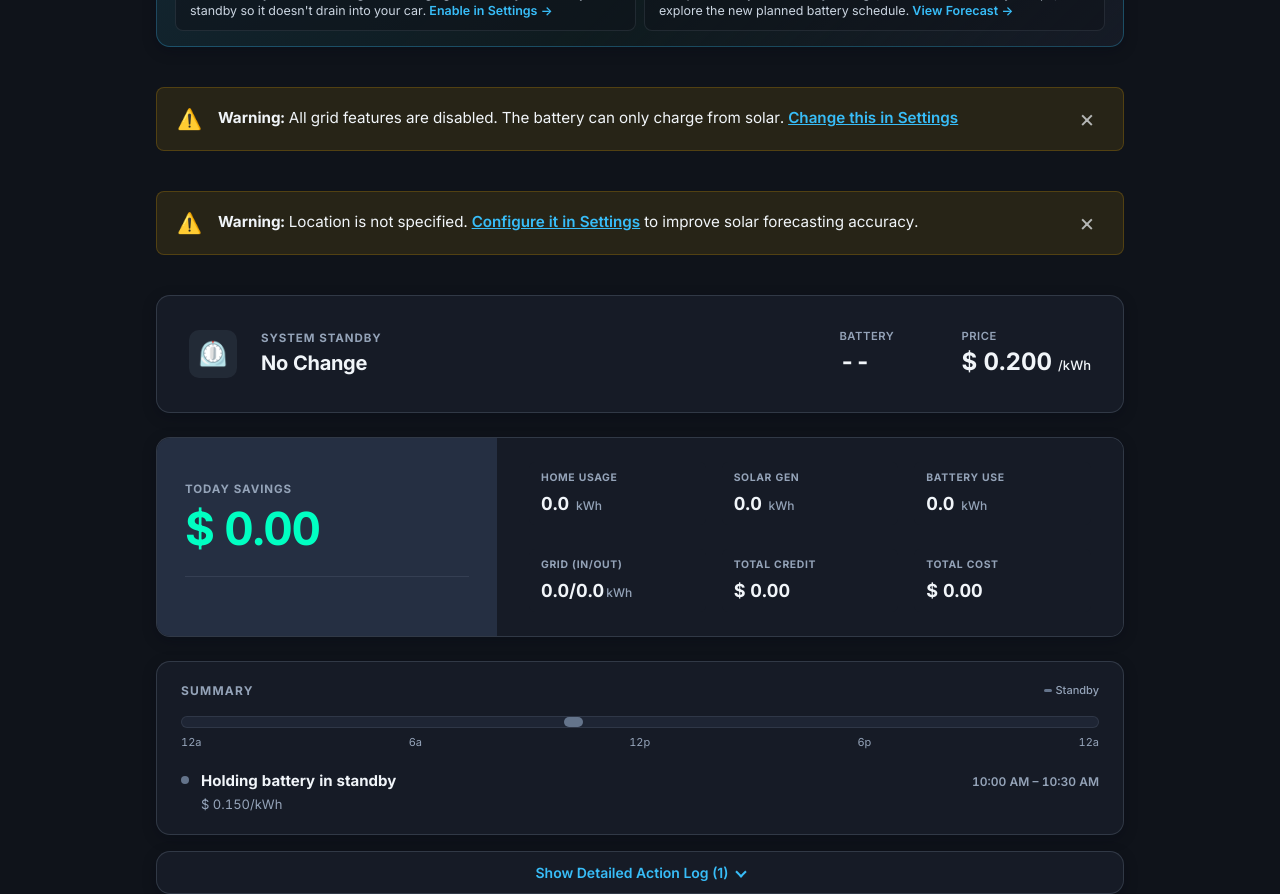
Test case: Dashboard › groups consecutive no change actions into summary
(page scrolled)
Click the button "Show Detailed Action Log (1)" at (640, 872), box x1=156 y1=851 x2=1124 y2=893
(page scrolled)
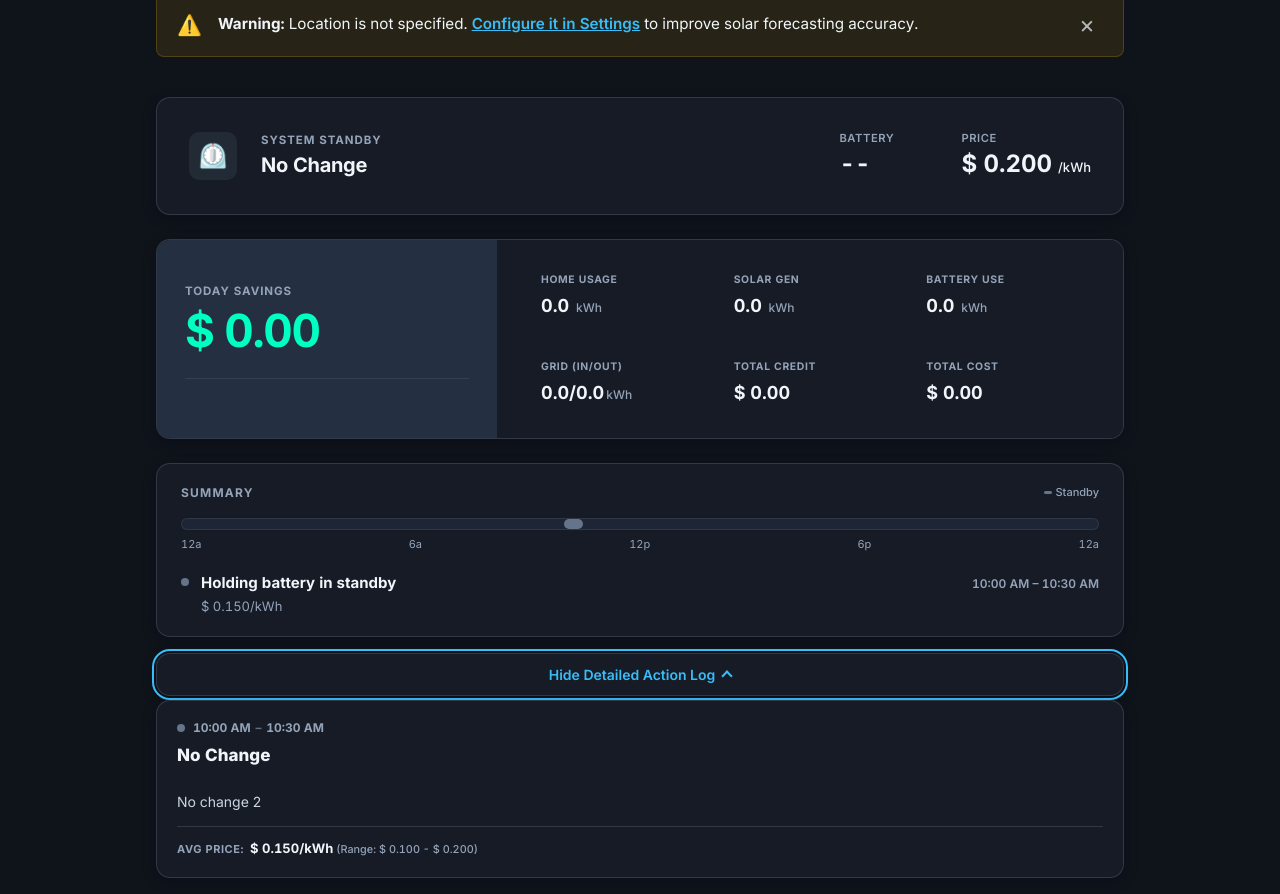
expect the heading "No Change" is shown: met, box x1=177 y1=745 x2=270 y2=765
expect the text "No change 2" is shown: met, box x1=177 y1=792 x2=262 y2=810
expect the text "Avg Price:" is shown: met, box x1=177 y1=841 x2=244 y2=858
